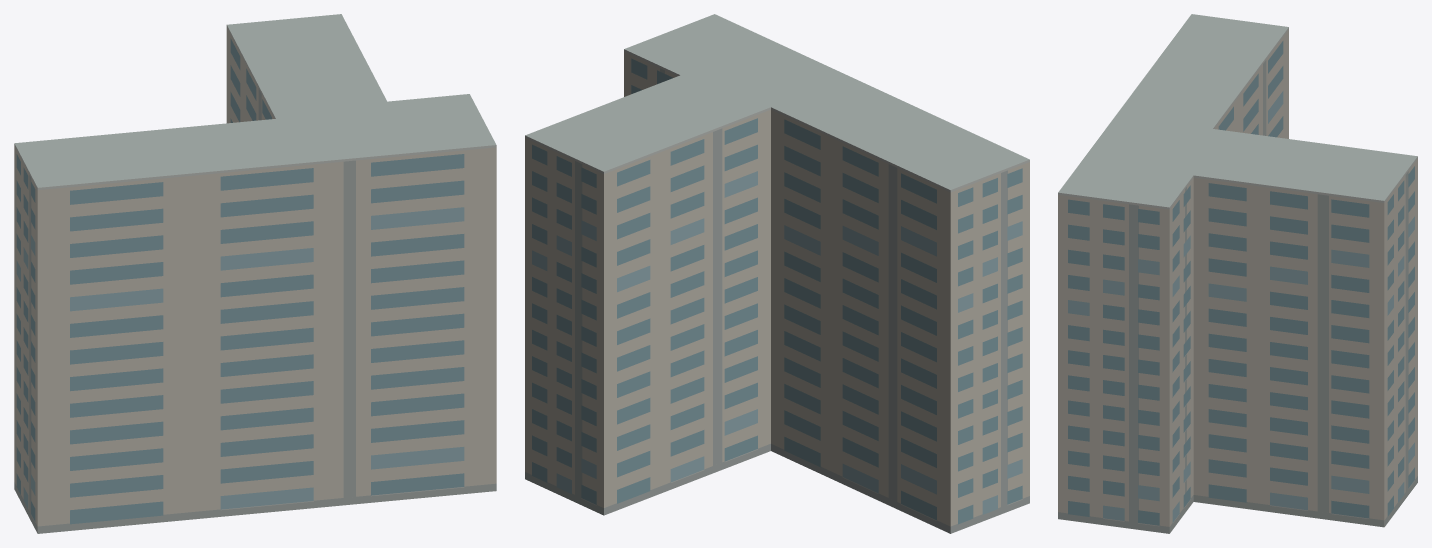
File: residential-c4523b47-4559-49be-8866-7b473cc54387.glb
The picture shows the model from 3 angles, left to right: view 1: azimuth 30°, elevation 25°; view 2: azimuth 150°, elevation 25°; view 3: azimuth 270°, elevation 25°; orthographic projection. The views are drawn at different scales.
Parts seen in each view (by area): view 1: residential-c4523b47-4559-49be-8866-7b473cc54387.tmp; view 2: residential-c4523b47-4559-49be-8866-7b473cc54387.tmp; view 3: residential-c4523b47-4559-49be-8866-7b473cc54387.tmp.
Part boxes in pixels (x1,y1,x2,y2): residential-c4523b47-4559-49be-8866-7b473cc54387.tmp: (14, 14, 496, 533); residential-c4523b47-4559-49be-8866-7b473cc54387.tmp: (525, 14, 1029, 533); residential-c4523b47-4559-49be-8866-7b473cc54387.tmp: (1058, 14, 1417, 533).
Size of the model in its own units: 45.77 by 36 by 35.97.
